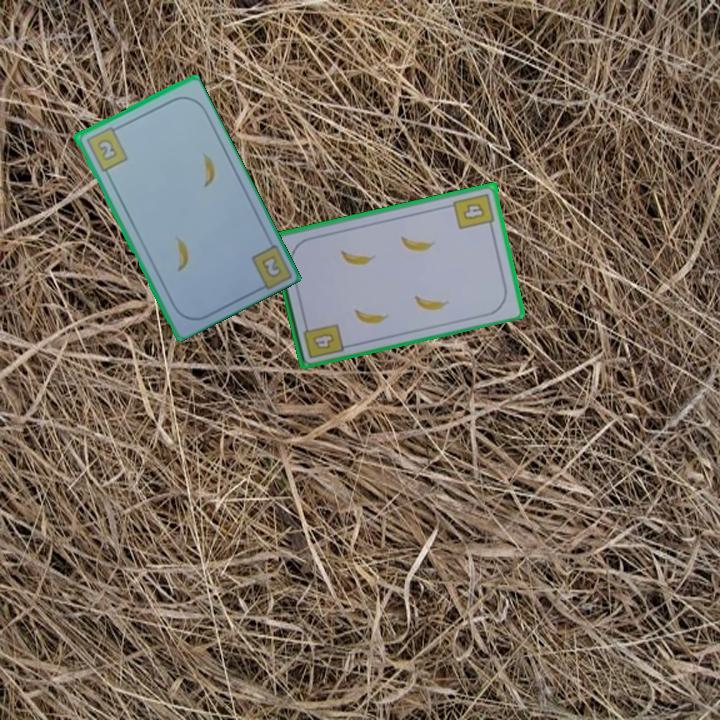2b: (82, 122, 130, 174), (257, 252, 284, 281)
4b: (450, 189, 498, 232), (309, 329, 338, 352)
